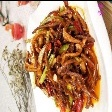chashugu: (21, 0, 102, 112)
